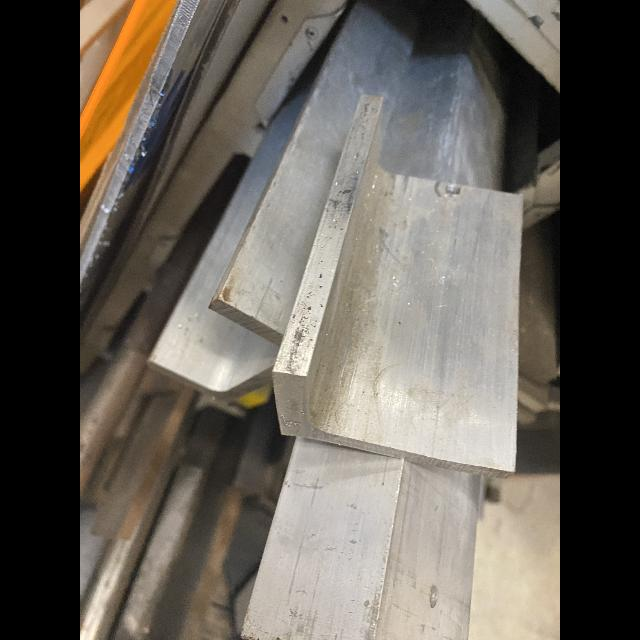Aluminium: (208, 1, 508, 347), (271, 93, 523, 478), (240, 436, 484, 640), (148, 117, 302, 403)
